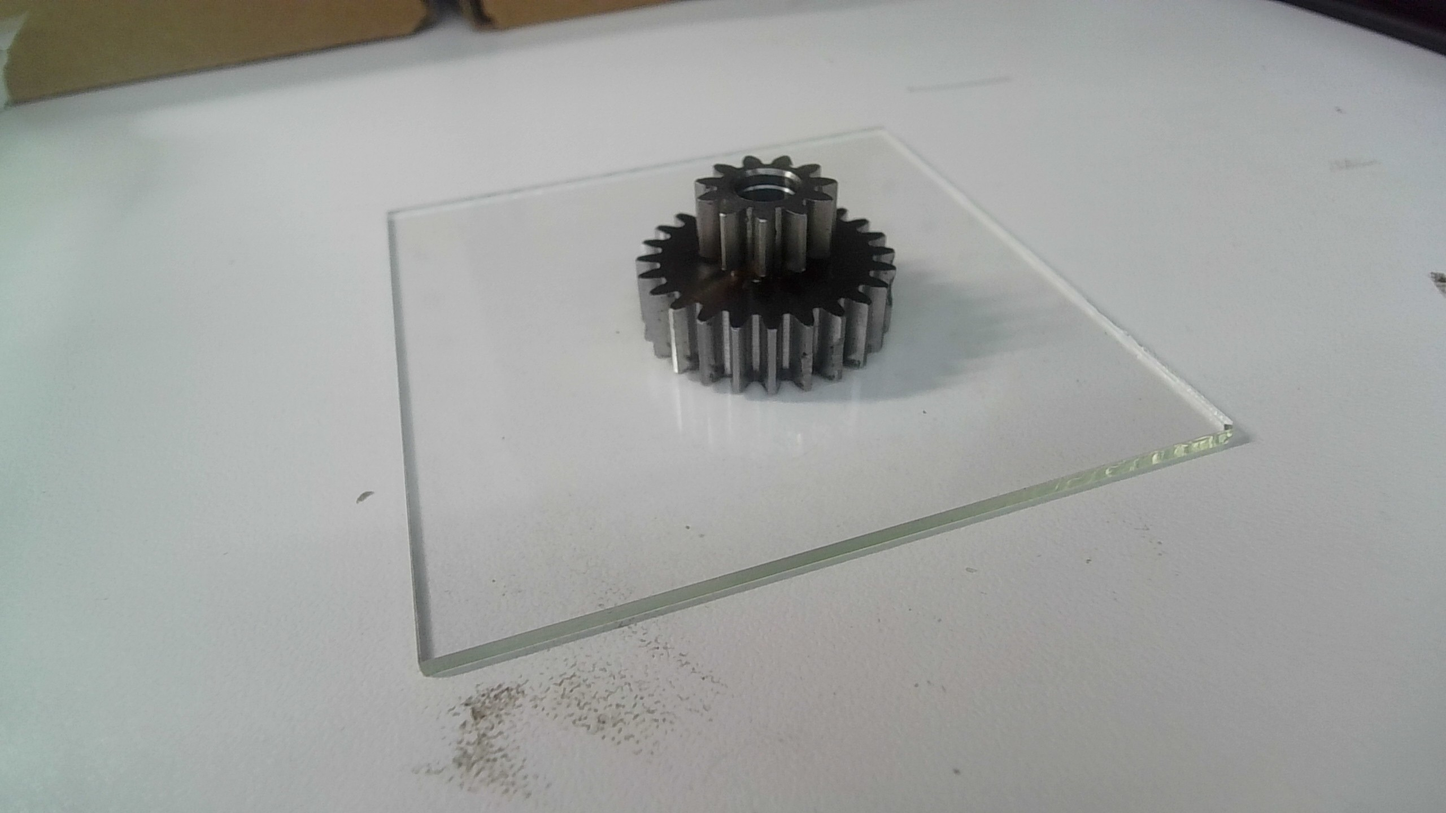gear: (631, 147, 900, 399)
